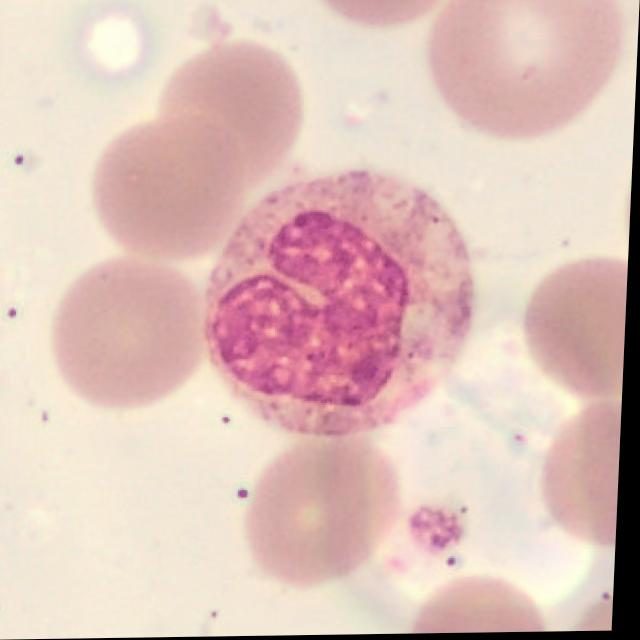Bastonete: (205, 172, 478, 441)
